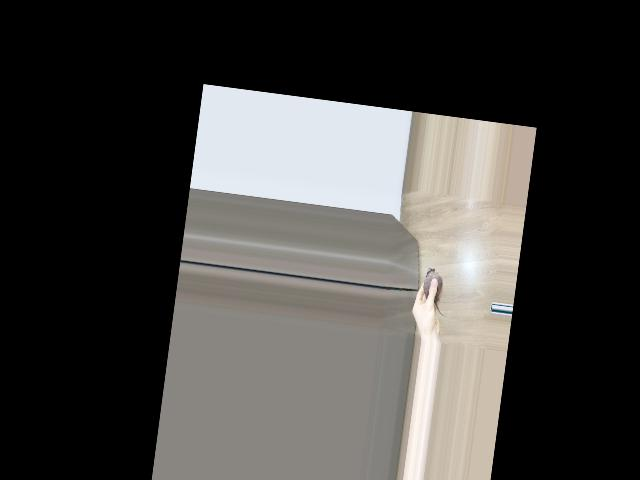beet: (420, 266, 450, 315)
